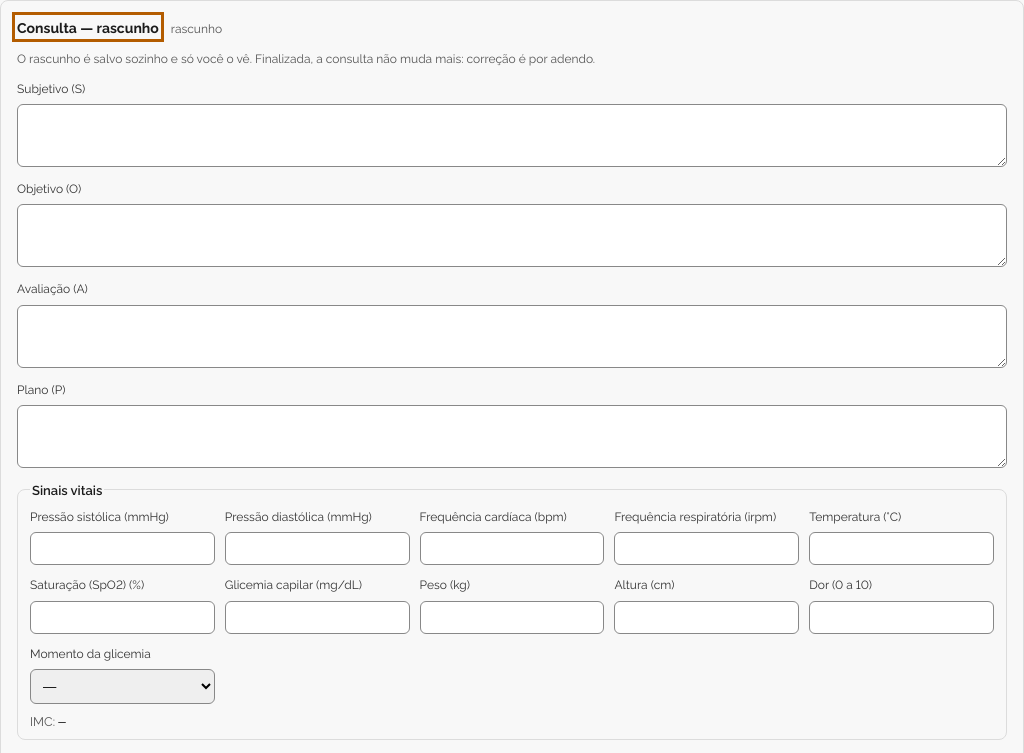
Test: ConsultationEditor › not_draft no salvamento trava o editor e avisa
In the text box labelled "Objetivo (O)": (512, 236) top-left (17, 204), bottom-right (1007, 268), type "Bom estado geral."
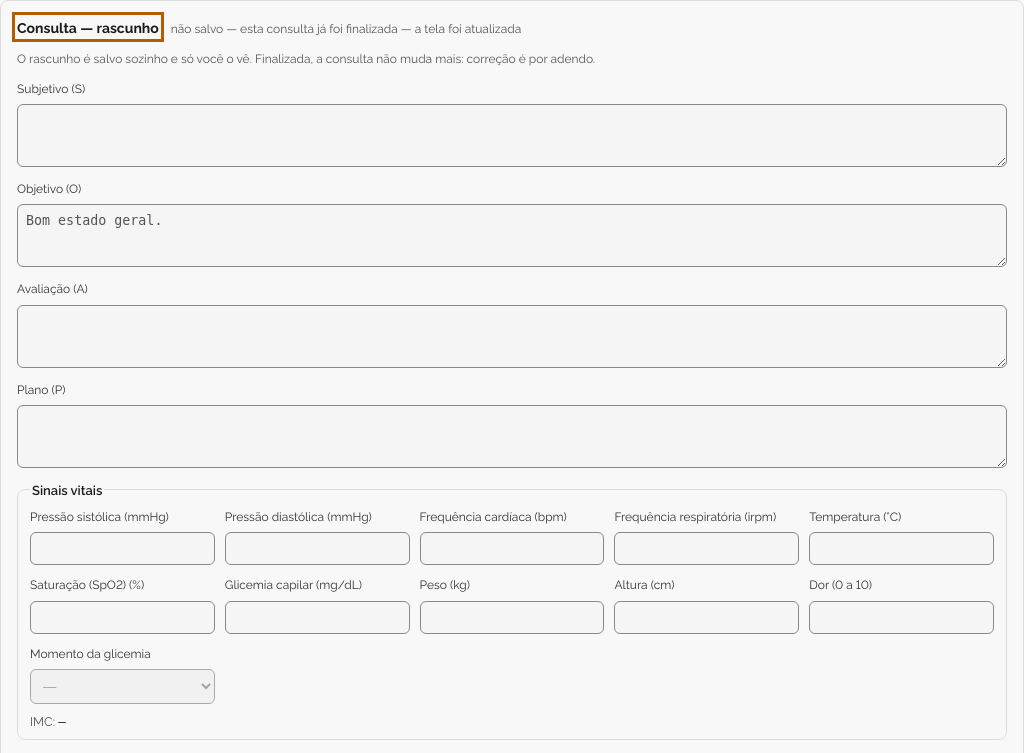
Now the text box labelled "Objetivo (O)" is disabled, box top-left (17, 204), bottom-right (1007, 268)
